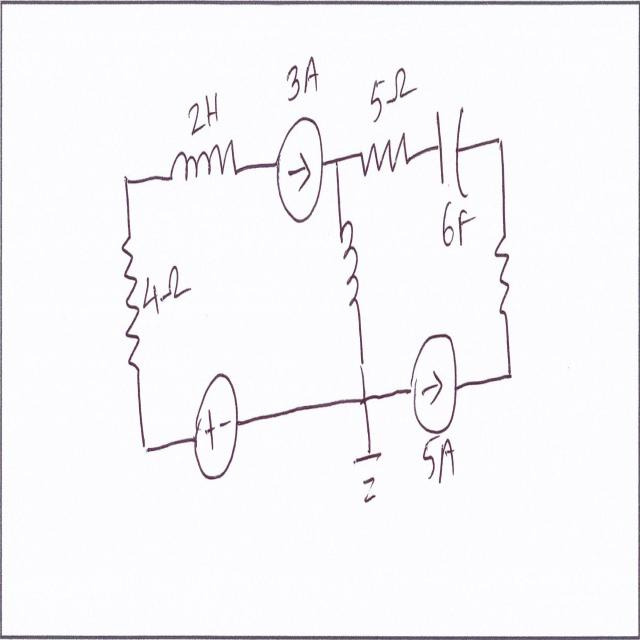capacitor: (431, 106, 470, 201)
current_source: (275, 112, 325, 234), (409, 325, 462, 440)
ground: (351, 428, 388, 510)
inductor: (170, 135, 239, 204), (337, 217, 365, 319)
resistor: (119, 234, 146, 384), (355, 126, 419, 184), (491, 222, 513, 328)
voltage_source: (192, 362, 242, 479)
